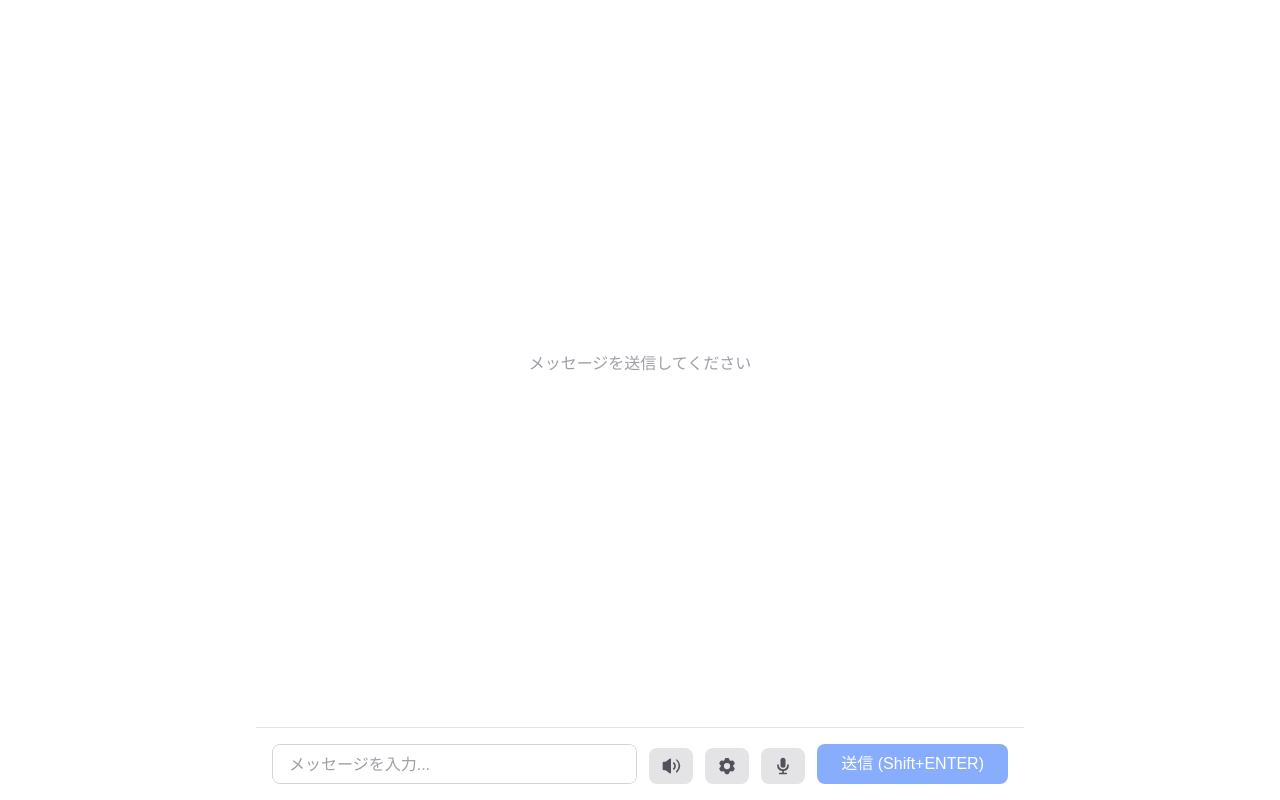
Test: ChatContainer › should close permission dialog and send allow response
This screenshot has width=1280, height=800.
In the text box with placeholder "メッセージを入力...": (455, 764) [272,744,637,784], type "Hello"
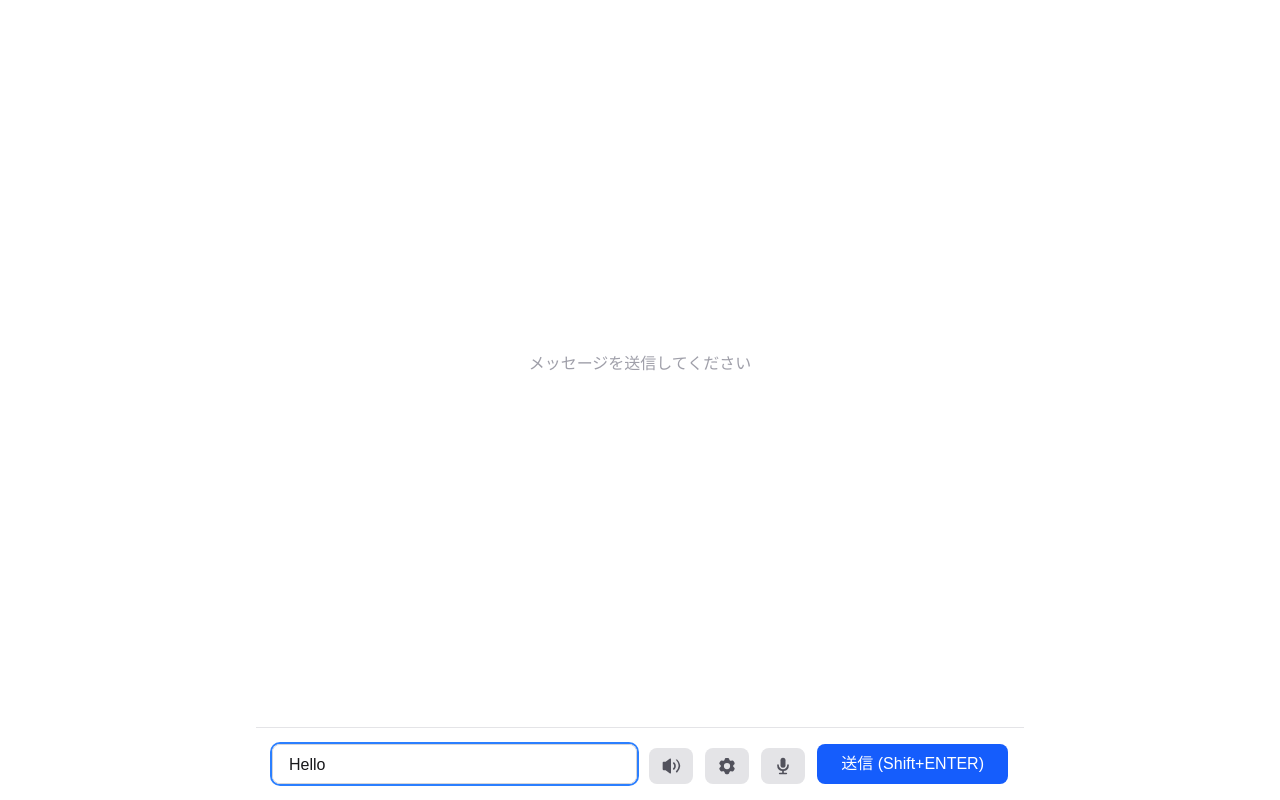
Click the button "送信 (Shift+ENTER)": (913, 764) [817,744,1008,784]
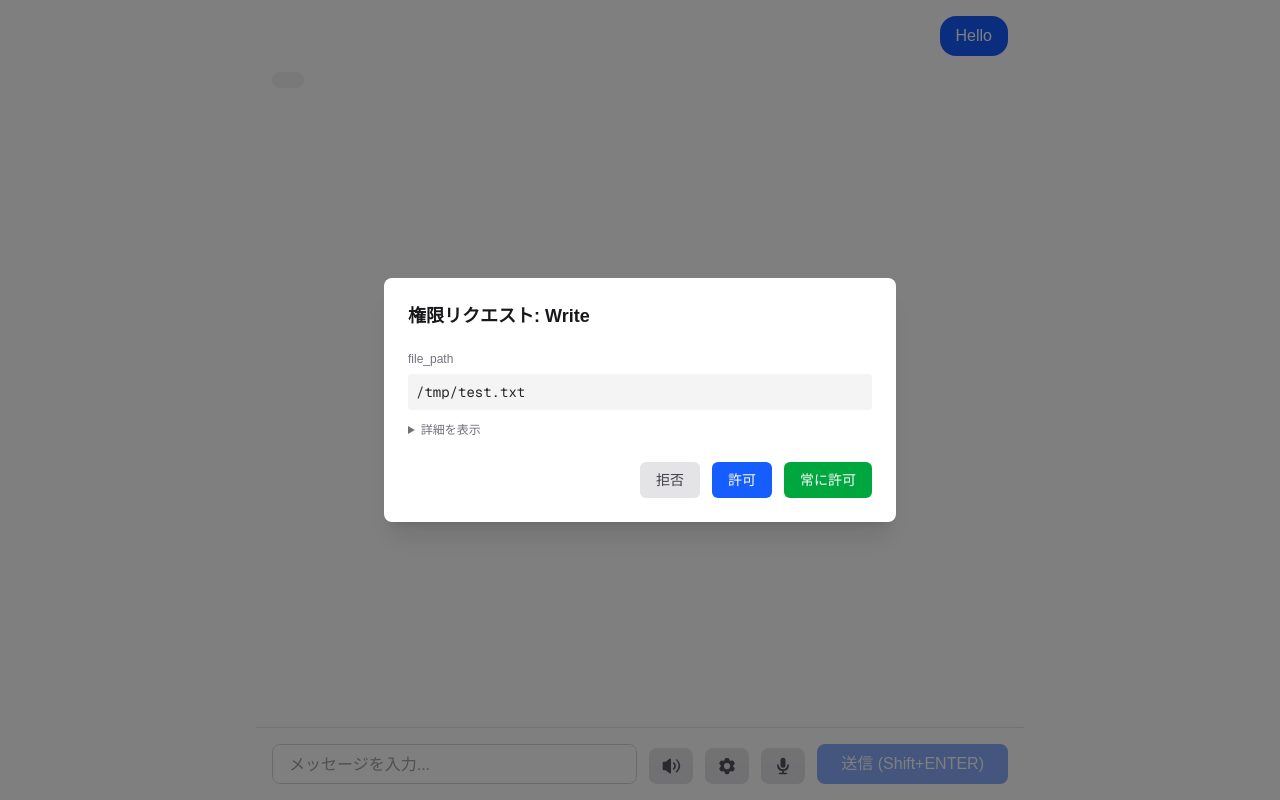
Now the heading "権限リクエスト: Write" is shown, box [408,306,590,326]
Click the button "許可": (742, 480) [712,462,772,498]
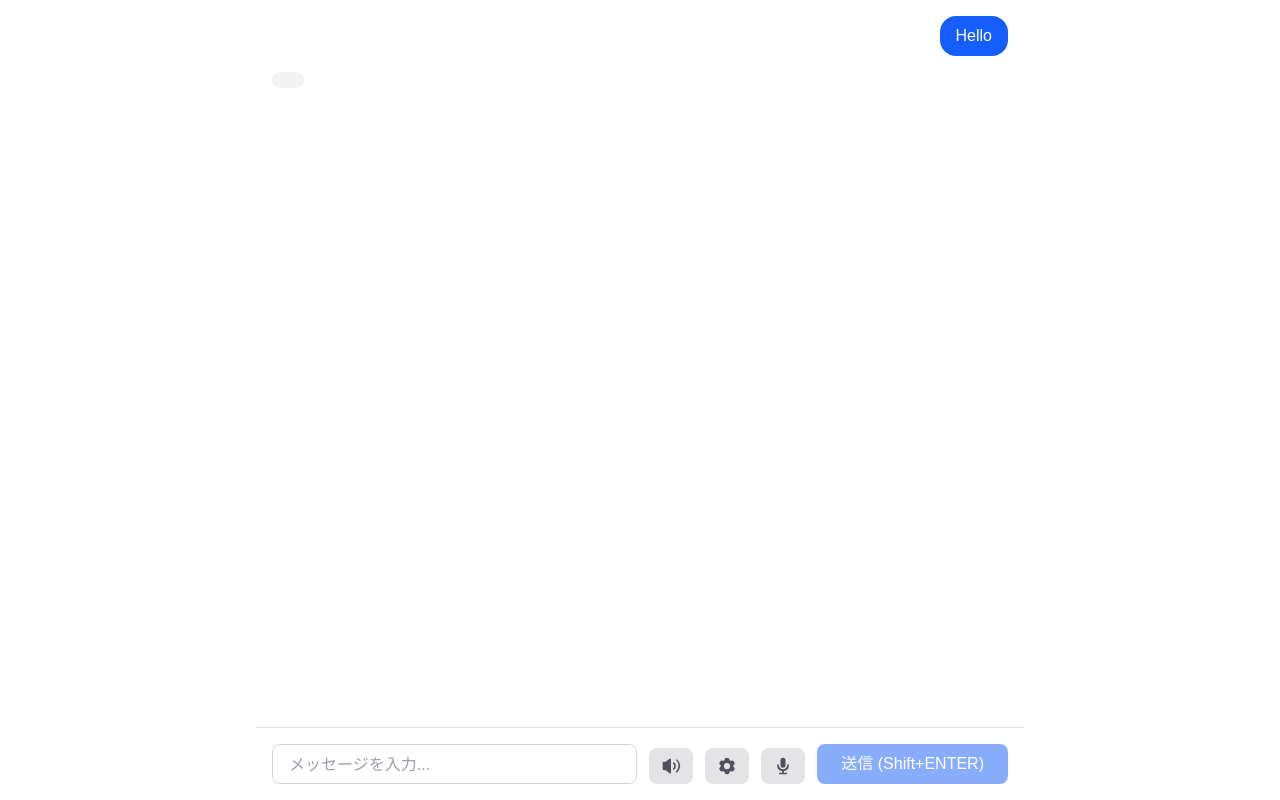
Now the heading "権限リクエスト: Write" is gone
